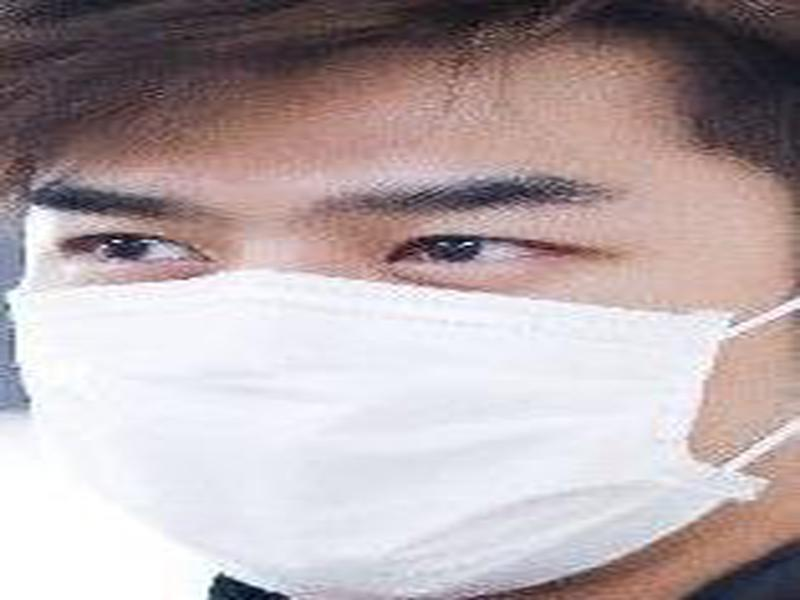with_mask: (1, 1, 794, 599)
